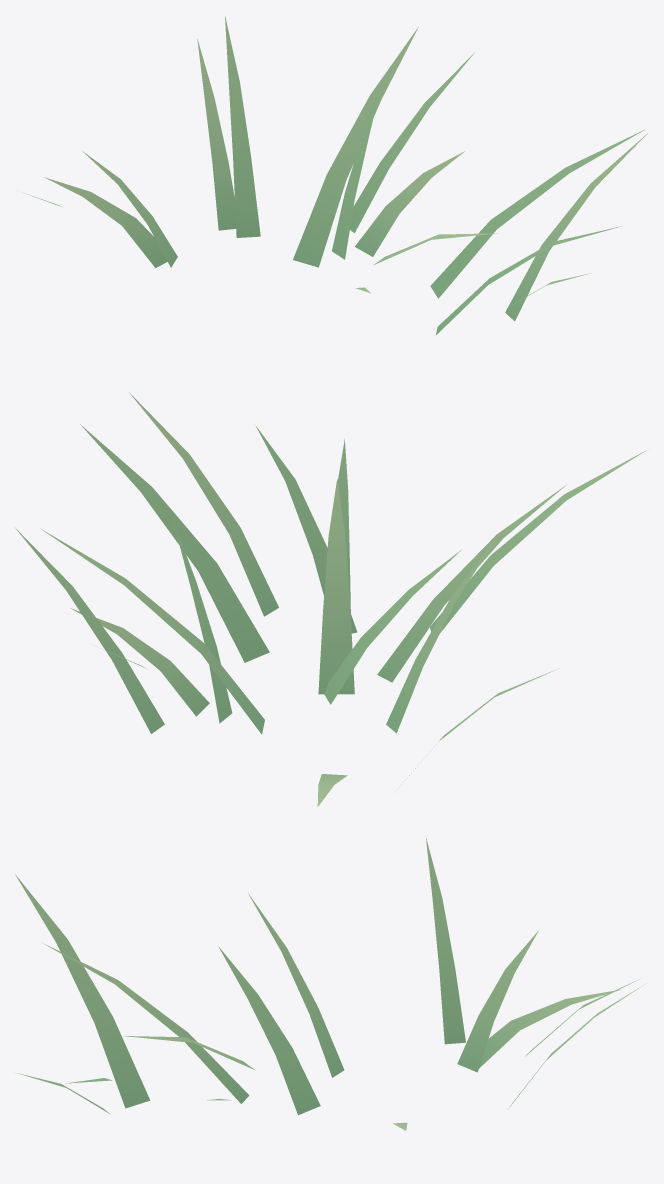
File: grass_glade_a.glb
3 views of the same model, one above another, from view 1: azimuth 30°, elevation 25°; view 2: azimuth 150°, elevation 25°; view 3: azimuth 270°, elevation 25° (orthographic). The views are drawn at different scales.
Parts seen in each view (by area): view 1: soft; view 2: soft; view 3: soft.
Part boxes in pixels (x1,y1,x2,y2): soft: (24, 16, 647, 334); soft: (15, 392, 646, 806); soft: (15, 836, 646, 1130).
Bounding box in the file's own units: 0.4712 × 0.1441 × 0.4625.
